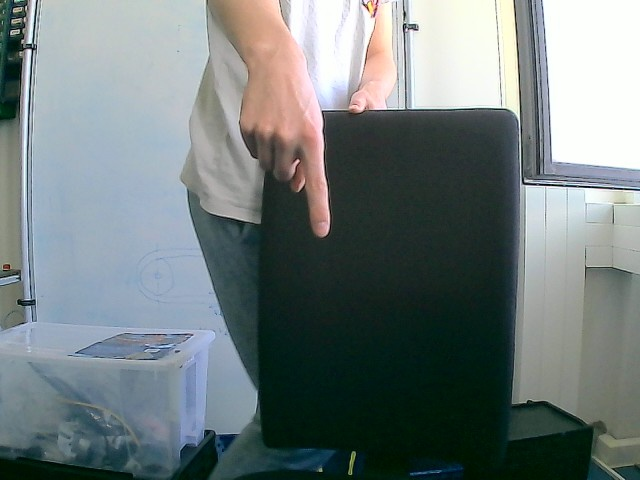down: (236, 45, 333, 239)
